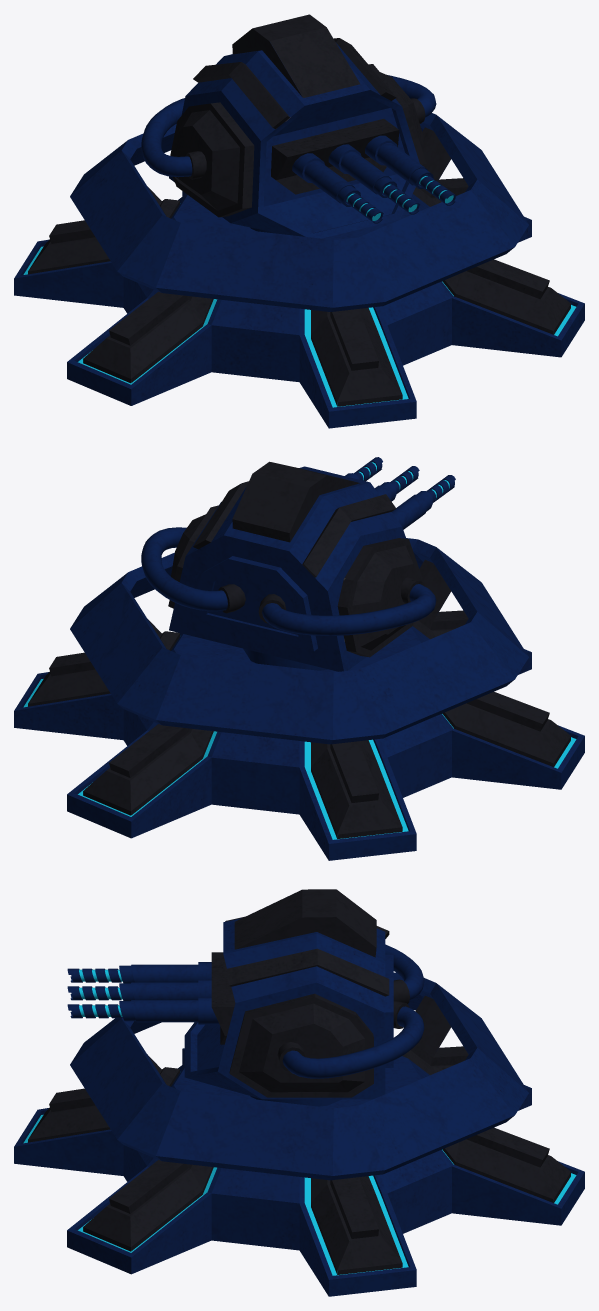
Rendered from uploads_files_2943575_Laser_turret.obj.
3 renders of one model, top to bottom at view 1: azimuth 30°, elevation 25°; view 2: azimuth 150°, elevation 25°; view 3: azimuth 270°, elevation 25°, orthographic.
Parts seen in each view (by area): view 1: Laser_turret; view 2: Laser_turret; view 3: Laser_turret.
Boxes of the visible parts, <box> form: Laser_turret: <box>14,14,584,428</box>; Laser_turret: <box>14,457,584,860</box>; Laser_turret: <box>14,889,584,1296</box>.
Bounding box in the file's own units: 6.07 × 3.2 × 6.07.
